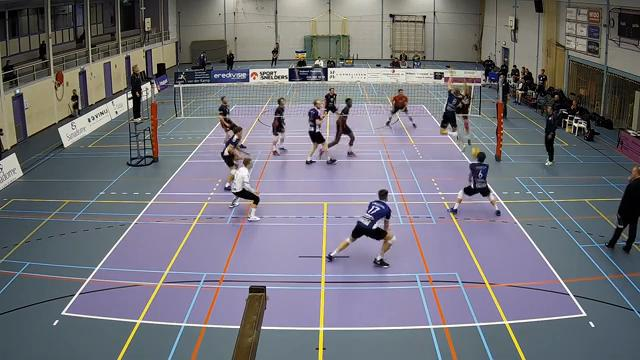Attack: (447, 69, 478, 150)
Block: (430, 73, 467, 151)
Dig: (452, 145, 506, 221)
Player: (326, 189, 395, 267), (229, 157, 259, 220), (306, 100, 336, 163), (328, 98, 355, 156), (221, 126, 242, 190), (386, 89, 416, 127), (218, 96, 236, 142), (271, 98, 285, 155), (324, 88, 337, 113)
ball: (468, 147, 481, 156)
